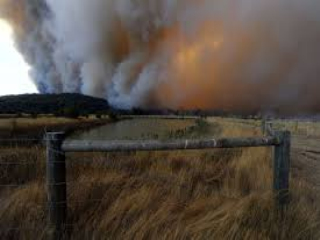smoke: (15, 8, 193, 118)
